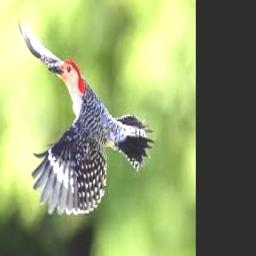Woodpecker: (18, 17, 153, 215)
